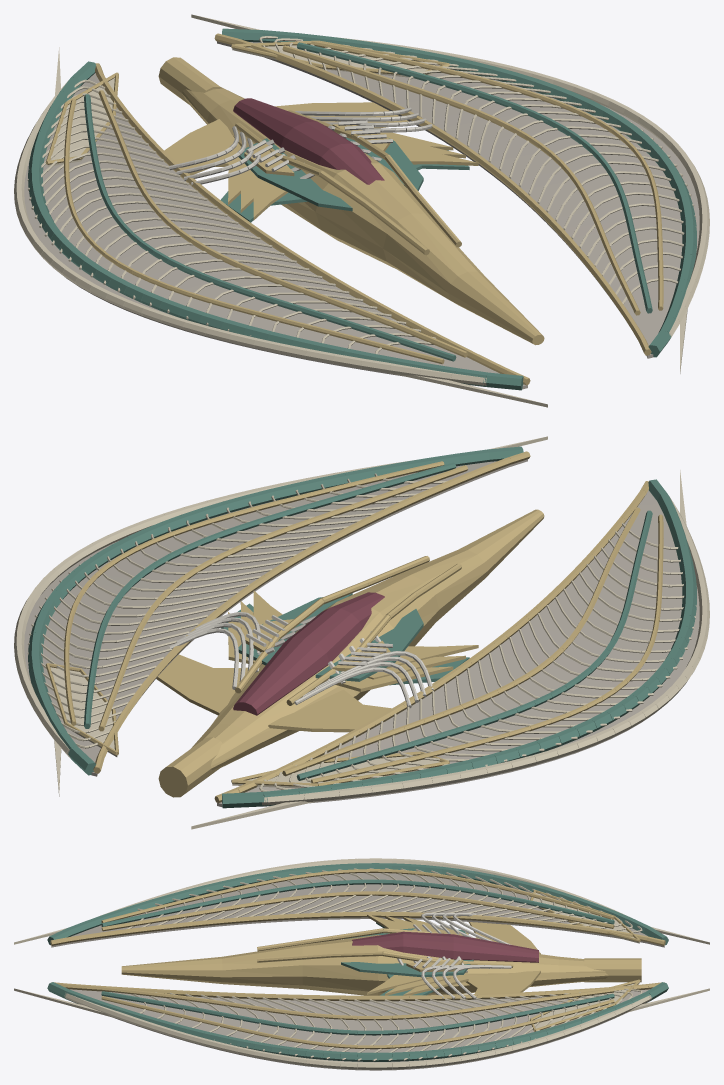
The model's file is mik_emerald_off.glb.
3 renders of one model, top to bottom at view 1: azimuth 30°, elevation 25°; view 2: azimuth 150°, elevation 25°; view 3: azimuth 270°, elevation 25°, orthographic. The views are drawn at different scales.
Parts seen in each view (by area): view 1: material_0, material_2, material_4, material_3, material_1, material_5; view 2: material_0, material_2, material_4, material_3, material_1, material_5; view 3: material_0, material_2, material_4, material_3, material_1, material_5.
Boxes of the visible parts, x1,y1,x2,y2 form: material_0: (45,33,663,385); material_2: (24,41,699,389); material_4: (14,14,709,407); material_3: (28,28,696,390); material_1: (233,98,384,184); material_5: (169,107,432,186); material_0: (45,451,663,803); material_2: (24,459,699,806); material_4: (14,436,709,829); material_3: (28,446,696,808); material_1: (233,592,384,715); material_5: (169,612,433,708); material_0: (50,869,665,1049); material_2: (51,873,664,1070); material_4: (14,858,709,1069); material_3: (47,863,668,1061); material_1: (352,931,538,962); material_5: (397,913,511,999).
Size of the model in its own units: 4.87 by 0.65 by 6.92.
